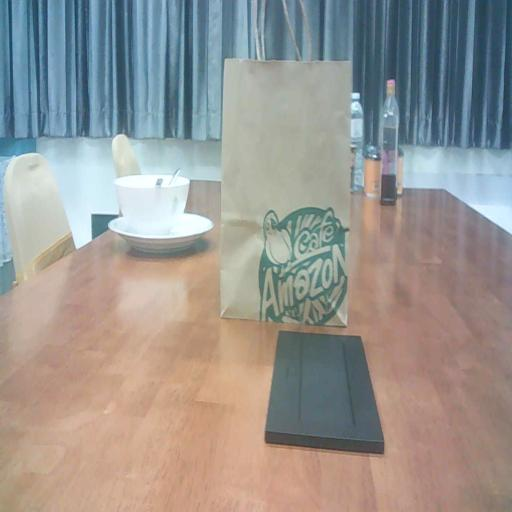bag: (221, 49, 350, 330)
